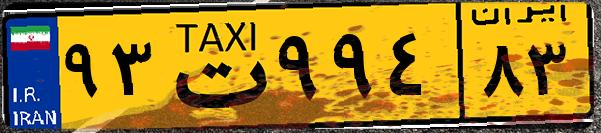3: (525, 38, 570, 115), (110, 28, 158, 98)
4: (385, 28, 445, 110)
8: (475, 38, 525, 113)
9: (270, 28, 330, 110), (330, 28, 385, 110), (57, 26, 110, 100)
ت: (158, 12, 270, 120)
